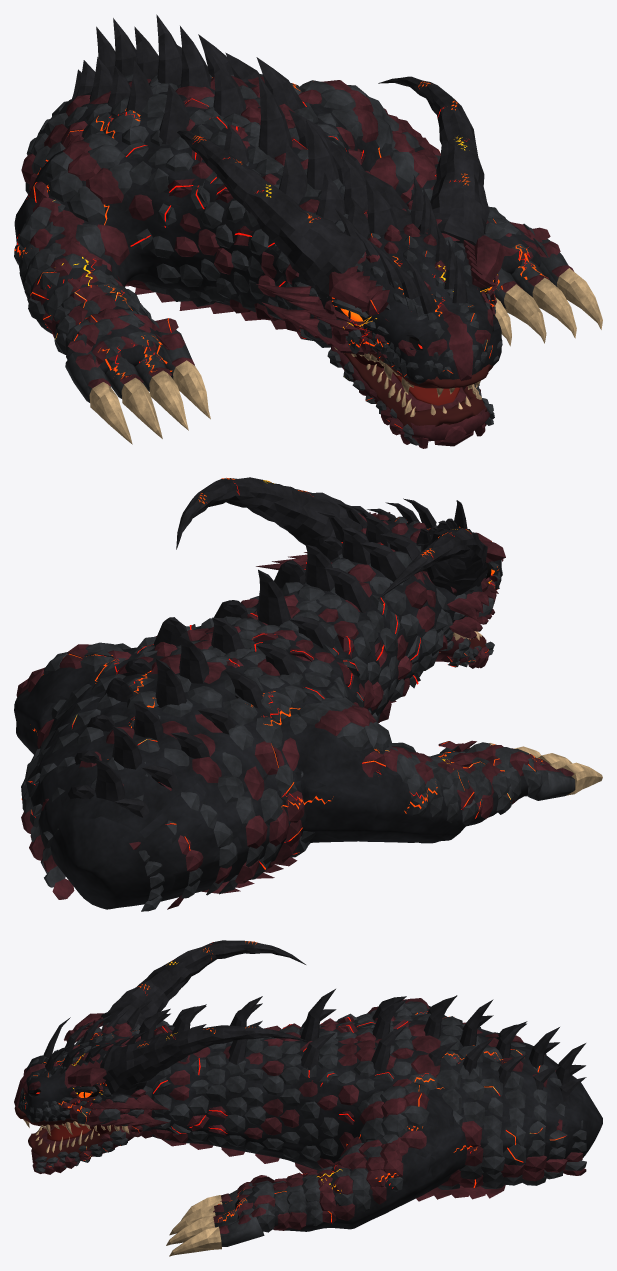
File: VolcanicDragon.glb
3 renders of one model, top to bottom at view 1: azimuth 30°, elevation 25°; view 2: azimuth 150°, elevation 25°; view 3: azimuth 270°, elevation 25°, orthographic. The views are drawn at different scales.
Visible parts, largest first — view 1: Armor_and_Spikes__Horns, Horns__Horns, Neck__DarkScales, Torso__Obsidian, Left_Forelimb__DarkScales, Head__Armor, Neck__Armor, Left_Forelimb__Armor, Head__Obsidian, Right_Forelimb__DarkScales, Left_Forelimb__Claws, Head__DarkScales (+10 smaller); view 2: Torso__Obsidian, Neck__DarkScales, Armor_and_Spikes__Horns, Neck__Armor, Horns__Horns, Left_Forelimb__DarkScales, Left_Forelimb__Armor, Head__Armor, Left_Forelimb__Claws, Right_Forelimb__DarkScales, Lava_Details__LavaCracks, Lava_Details__Ember (+5 smaller); view 3: Neck__DarkScales, Torso__Obsidian, Neck__Armor, Horns__Horns, Armor_and_Spikes__Horns, Right_Forelimb__DarkScales, Right_Forelimb__Armor, Head__Armor, Head__Obsidian, Head__DarkScales, Right_Forelimb__Claws, Jaw_and_Teeth__Armor (+5 smaller).
Boxes of the visible parts, x1,y1,x2,y2 form: Armor_and_Spikes__Horns: [72, 14, 411, 238]; Horns__Horns: [177, 76, 489, 313]; Neck__DarkScales: [25, 74, 363, 347]; Torso__Obsidian: [14, 77, 540, 373]; Left_Forelimb__DarkScales: [14, 133, 194, 402]; Head__Armor: [256, 223, 505, 389]; Neck__Armor: [21, 75, 406, 338]; Left_Forelimb__Armor: [28, 140, 194, 388]; Head__Obsidian: [318, 230, 501, 384]; Right_Forelimb__DarkScales: [299, 80, 568, 308]; Left_Forelimb__Claws: [89, 360, 210, 444]; Head__DarkScales: [309, 233, 502, 380]; Torso__Obsidian: [14, 557, 528, 909]; Neck__DarkScales: [21, 551, 452, 911]; Armor_and_Spikes__Horns: [68, 517, 420, 817]; Neck__Armor: [21, 542, 447, 909]; Horns__Horns: [176, 477, 487, 598]; Left_Forelimb__DarkScales: [296, 697, 575, 825]; Left_Forelimb__Armor: [315, 705, 573, 820]; Head__Armor: [256, 512, 505, 638]; Left_Forelimb__Claws: [489, 743, 602, 795]; Right_Forelimb__DarkScales: [14, 642, 130, 705]; Lava_Details__LavaCracks: [21, 604, 542, 869]; Lava_Details__Ember: [30, 542, 531, 869]; Neck__DarkScales: [140, 1008, 586, 1189]; Torso__Obsidian: [146, 1005, 602, 1231]; Neck__Armor: [141, 1016, 586, 1201]; Horns__Horns: [43, 940, 306, 1095]; Armor_and_Spikes__Horns: [139, 989, 586, 1101]; Right_Forelimb__DarkScales: [214, 1082, 430, 1246]; Right_Forelimb__Armor: [213, 1092, 429, 1233]; Head__Armor: [14, 1013, 169, 1127]; Head__Obsidian: [18, 1027, 145, 1122]; Head__DarkScales: [20, 1022, 144, 1126]; Right_Forelimb__Claws: [166, 1195, 222, 1256]; Jaw_and_Teeth__Armor: [31, 1125, 143, 1174].
Size of the model in its own units: 8.87 by 4.17 by 11.97.
Materials: 18 (18 with a texture image).
